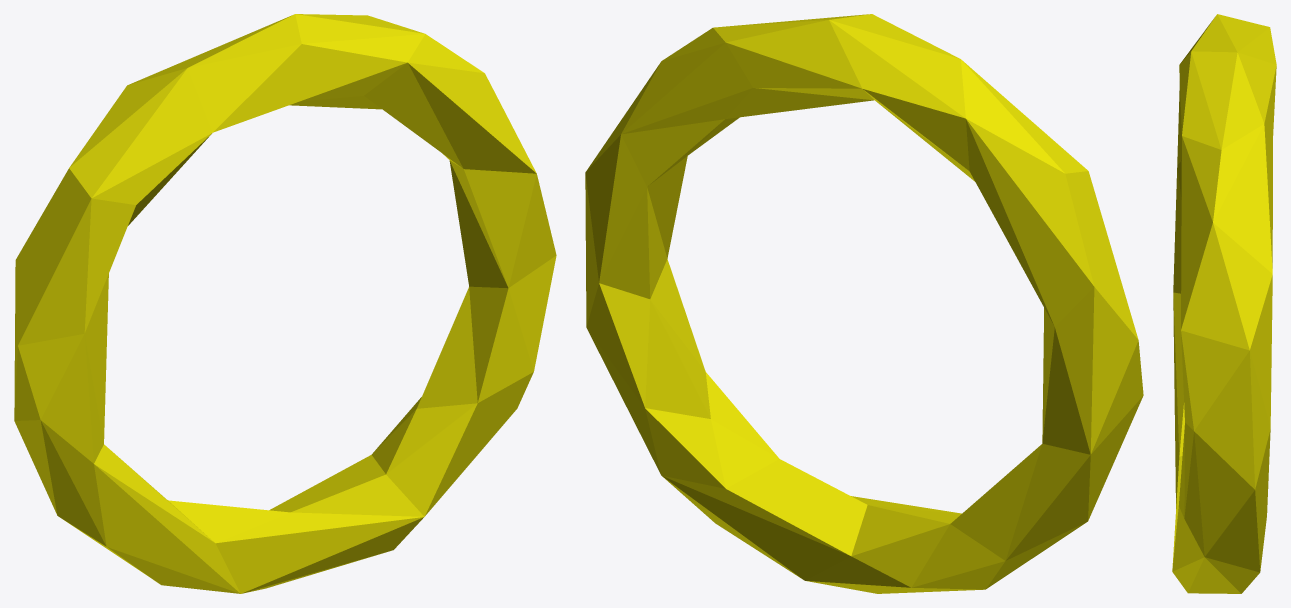
Rendered from PiercingsMiddle.glb.
The picture shows the model from 3 angles, left to right: view 1: azimuth 30°, elevation 25°; view 2: azimuth 150°, elevation 25°; view 3: azimuth 270°, elevation 25°; orthographic projection. The views are drawn at different scales.
Visible parts, largest first — view 1: Circle.001; view 2: Circle.001; view 3: Circle.001.
Part boxes in pixels (left/top/right/bottom): Circle.001: left=14, top=14, right=556, bottom=593; Circle.001: left=585, top=14, right=1143, bottom=593; Circle.001: left=1172, top=14, right=1276, bottom=593.
Size of the model in its own units: 0.0926 by 0.0935 by 0.0167.
